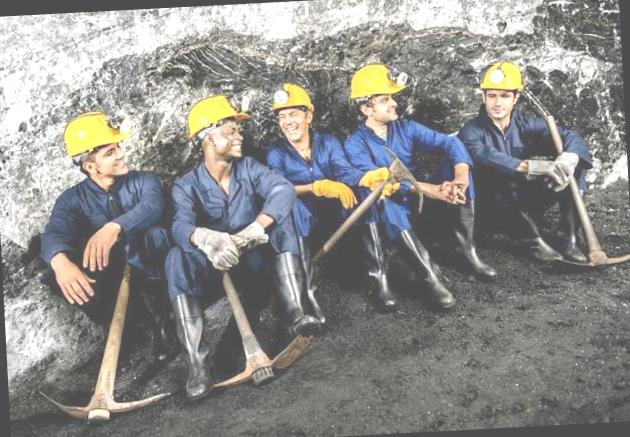helmet: (60, 112, 134, 164), (183, 96, 250, 148), (347, 62, 411, 109), (476, 59, 529, 104), (269, 80, 315, 124)
person: (30, 102, 183, 342), (337, 59, 471, 310), (458, 55, 603, 282), (170, 92, 300, 342), (264, 73, 358, 312)
